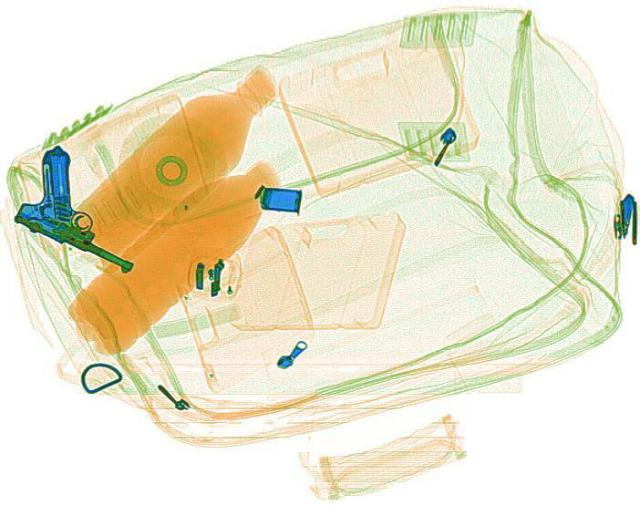Gun: (8, 153, 184, 272)
